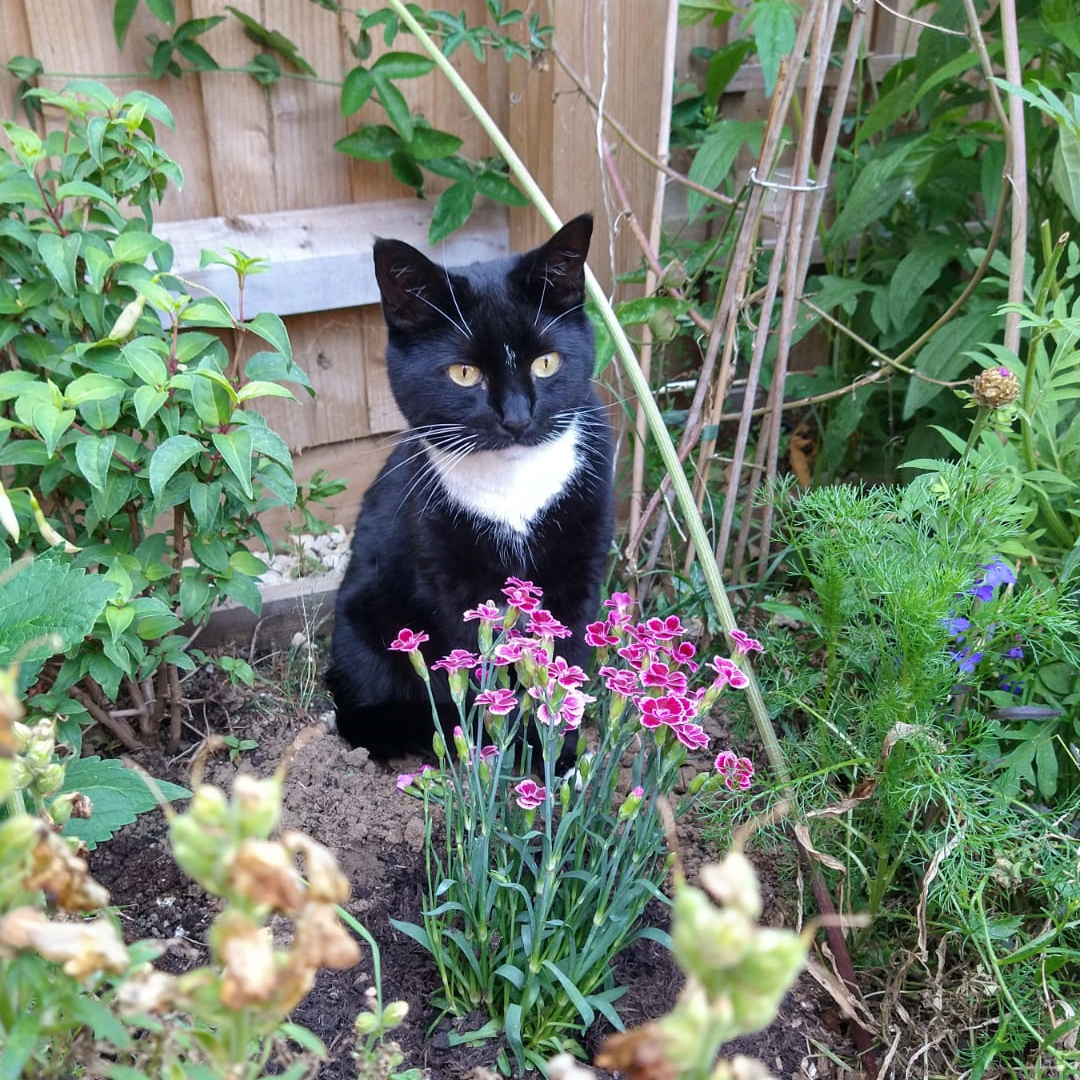cat: (333, 215, 618, 777)
